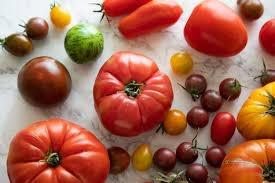Grape Rotten: (1, 0, 274, 183), (93, 51, 174, 137), (17, 56, 72, 108)
